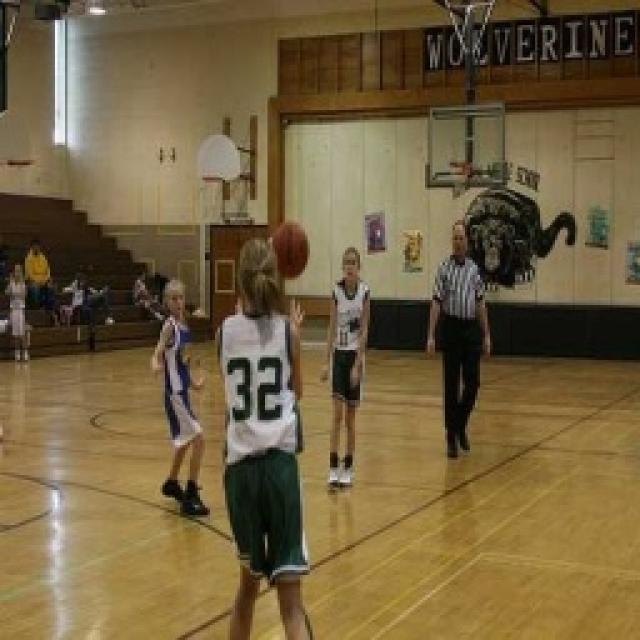rim: (258, 216, 318, 280)
